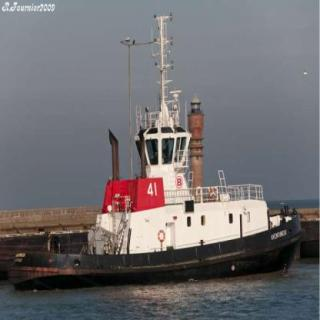Tug Boat: (58, 61, 308, 279)
